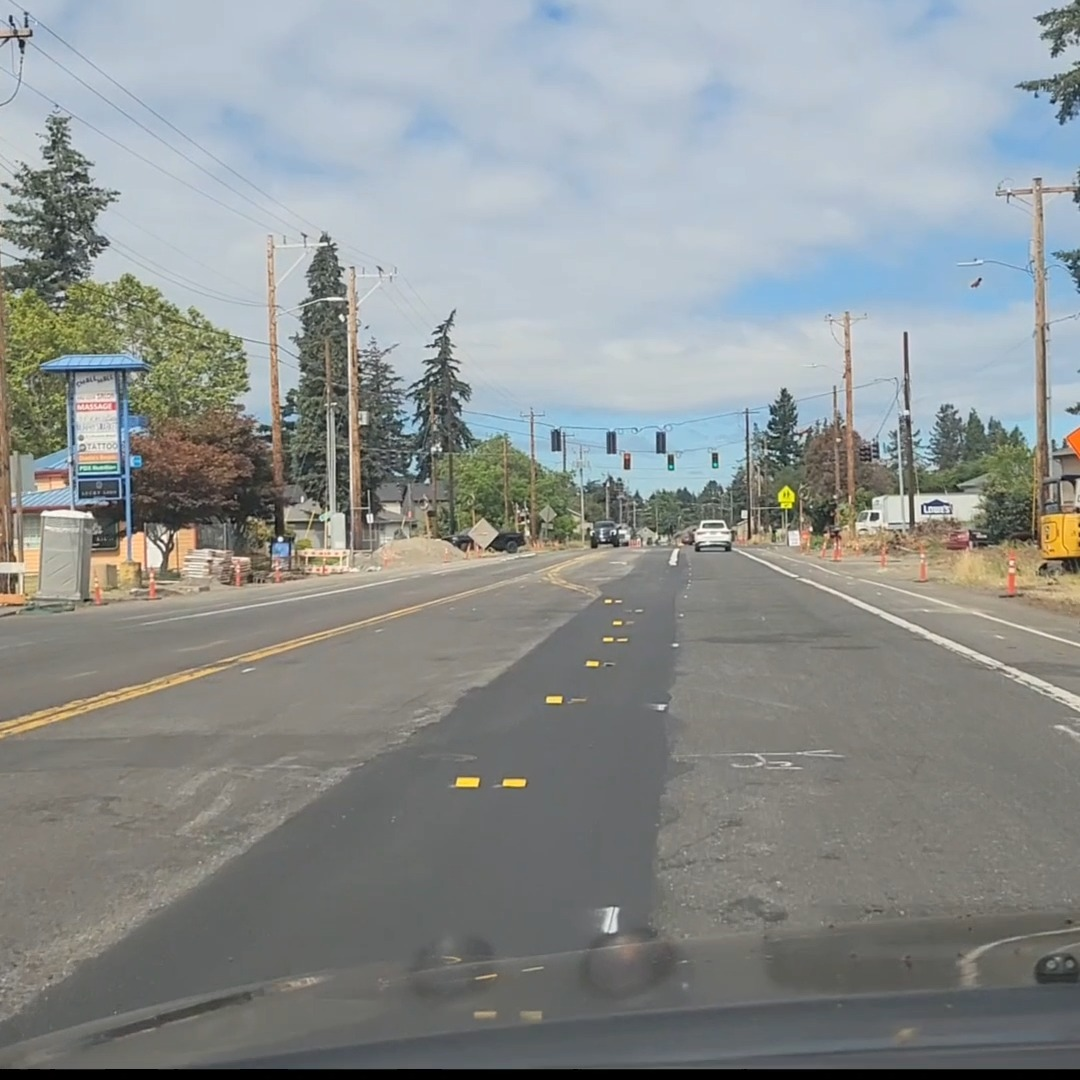car: (444, 529, 526, 553), (693, 520, 732, 552), (941, 528, 989, 549), (590, 520, 620, 548), (681, 531, 695, 545)
crosswalk-sign: (777, 485, 795, 509)
delineator: (1004, 551, 1019, 596), (915, 541, 929, 582), (92, 572, 104, 604), (147, 569, 157, 599), (831, 533, 841, 561), (879, 538, 888, 569), (851, 535, 864, 556), (801, 530, 811, 552), (233, 560, 241, 587), (818, 534, 827, 557), (273, 558, 281, 582), (442, 546, 451, 562), (463, 542, 471, 559), (631, 537, 641, 547)
